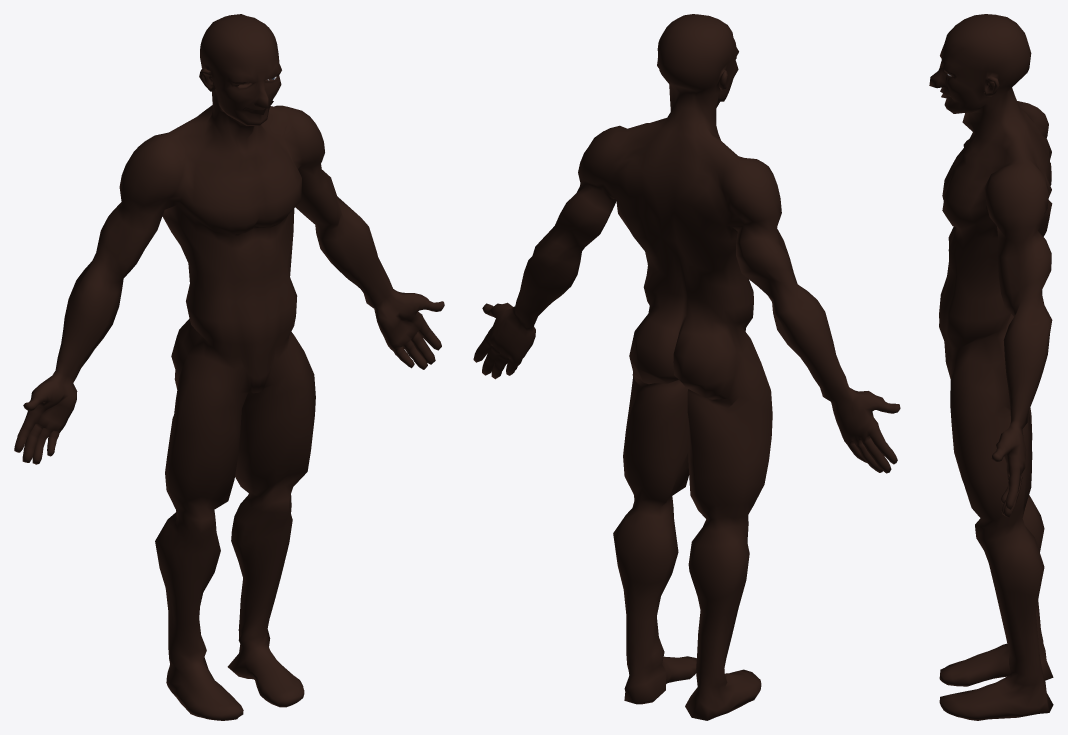
File: Male.glb
The picture shows the model from 3 angles, left to right: view 1: azimuth 30°, elevation 25°; view 2: azimuth 150°, elevation 25°; view 3: azimuth 270°, elevation 25°; orthographic projection.
Parts seen in each view (by area): view 1: Man Base mesh.003; view 2: Man Base mesh.003; view 3: Man Base mesh.003.
Boxes of the visible parts, x1,y1,x2,y2 form: Man Base mesh.003: (14,14,444,720); Man Base mesh.003: (473,14,900,720); Man Base mesh.003: (929,14,1053,720).
Bounding box in the file's own units: 6.79 × 10.32 × 1.72.
